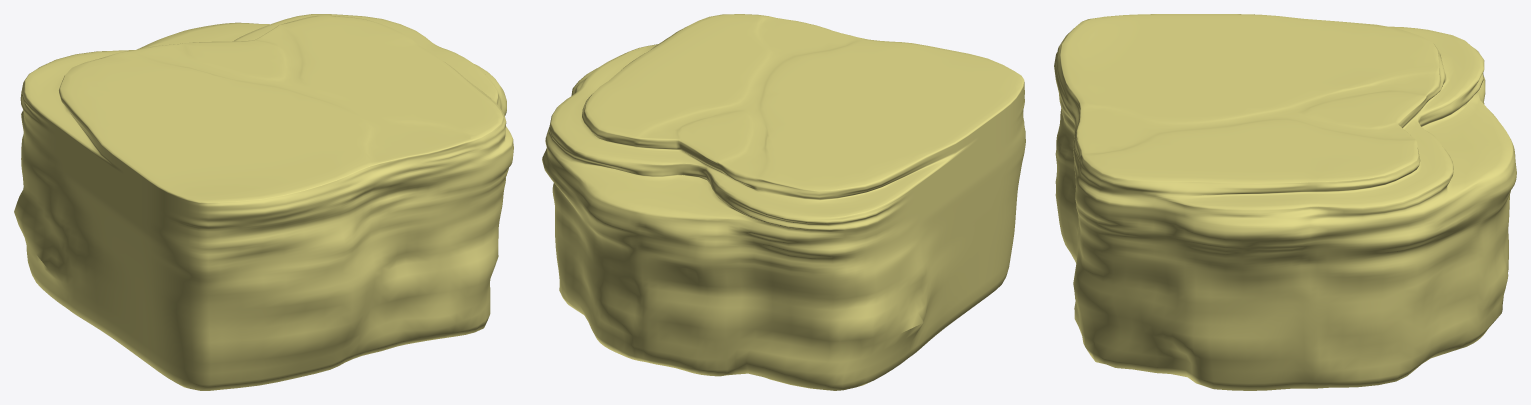
The model's file is FLOOR_v3b.fbx.
3 renders of one model, left to right at view 1: azimuth 30°, elevation 25°; view 2: azimuth 150°, elevation 25°; view 3: azimuth 270°, elevation 25°, orthographic. The views are drawn at different scales.
Parts seen in each view (by area): view 1: env_base_s5_smoothed; view 2: env_base_s5_smoothed; view 3: env_base_s5_smoothed.
Boxes of the visible parts, x1,y1,x2,y2 form: env_base_s5_smoothed: (14,14,513,390); env_base_s5_smoothed: (542,14,1025,390); env_base_s5_smoothed: (1054,14,1516,390).
Bounding box in the file's own units: 224 × 111 × 223.
